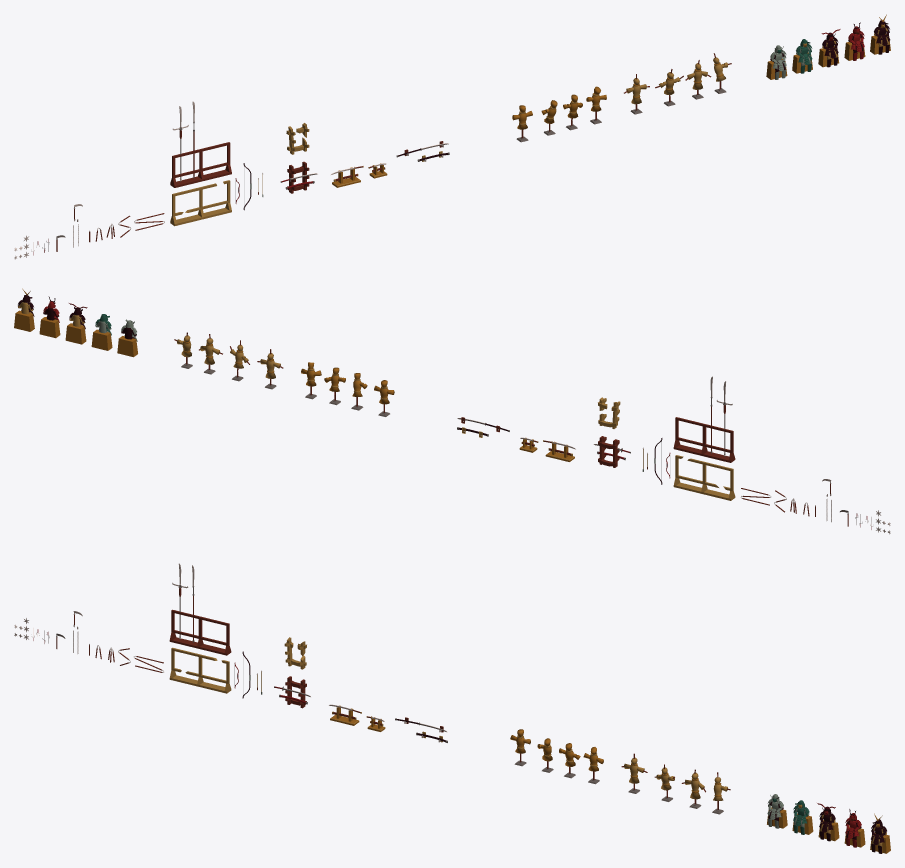
File: semana_8.fbx
3 views of the same model, one above another, from view 1: azimuth 30°, elevation 25°; view 2: azimuth 150°, elevation 25°; view 3: azimuth 330°, elevation 25° (orthographic).
Parts seen in each view (by area): view 1: suporte_lancas, suporte_lancas_quebrado, armadura_samurai_003, armadura_samurai_005, armadura_samurai_001, armadura_samurai_004, armadura_samurai_002; view 2: suporte_lancas, suporte_lancas_quebrado, armadura_samurai_003, armadura_samurai_005, armadura_samurai_001, armadura_samurai_002, armadura_samurai_004; view 3: suporte_lancas, suporte_lancas_quebrado, armadura_samurai_003.
Part boxes in pixels (left/top/right/bottom): suporte_lancas: left=170, top=142, right=231, bottom=187; suporte_lancas_quebrado: left=170, top=180, right=231, bottom=226; armadura_samurai_003: left=818, top=29, right=840, bottom=67; armadura_samurai_005: left=870, top=14, right=890, bottom=54; armadura_samurai_001: left=844, top=22, right=865, bottom=60; armadura_samurai_004: left=766, top=45, right=787, bottom=79; armadura_samurai_002: left=792, top=39, right=812, bottom=73; suporte_lancas: left=673, top=417, right=735, bottom=462; suporte_lancas_quebrado: left=673, top=455, right=735, bottom=500; armadura_samurai_003: left=65, top=303, right=87, bottom=344; armadura_samurai_005: left=14, top=288, right=34, bottom=331; armadura_samurai_001: left=39, top=296, right=60, bottom=338; armadura_samurai_002: left=91, top=314, right=112, bottom=350; armadura_samurai_004: left=117, top=319, right=137, bottom=357; suporte_lancas: left=169, top=609, right=231, bottom=655; suporte_lancas_quebrado: left=169, top=647, right=231, bottom=693; armadura_samurai_003: left=817, top=803, right=839, bottom=841.
Size of the model in its own units: 4181 by 553 by 69.88.
